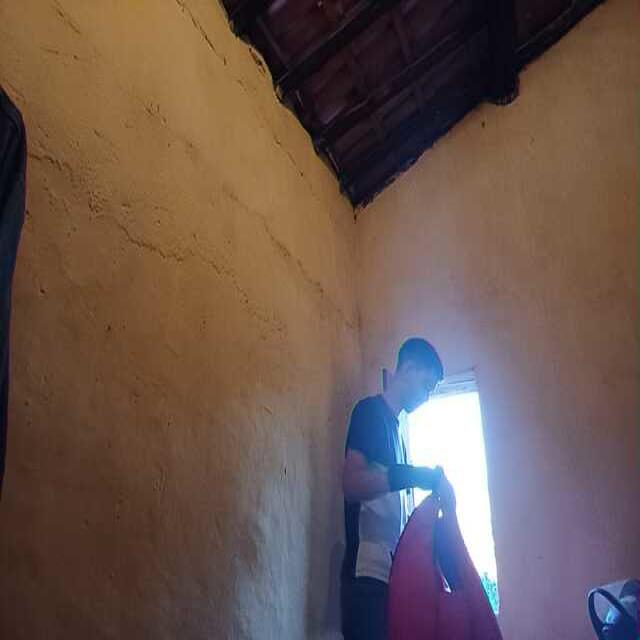colete: (381, 469, 514, 640)
pessoa: (341, 331, 439, 633)
